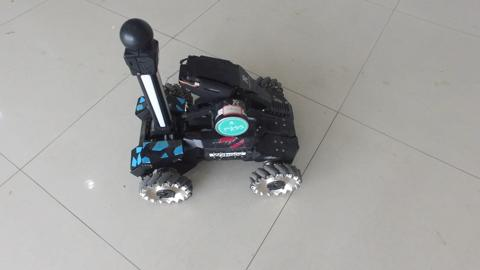chariot: (93, 29, 307, 211)
